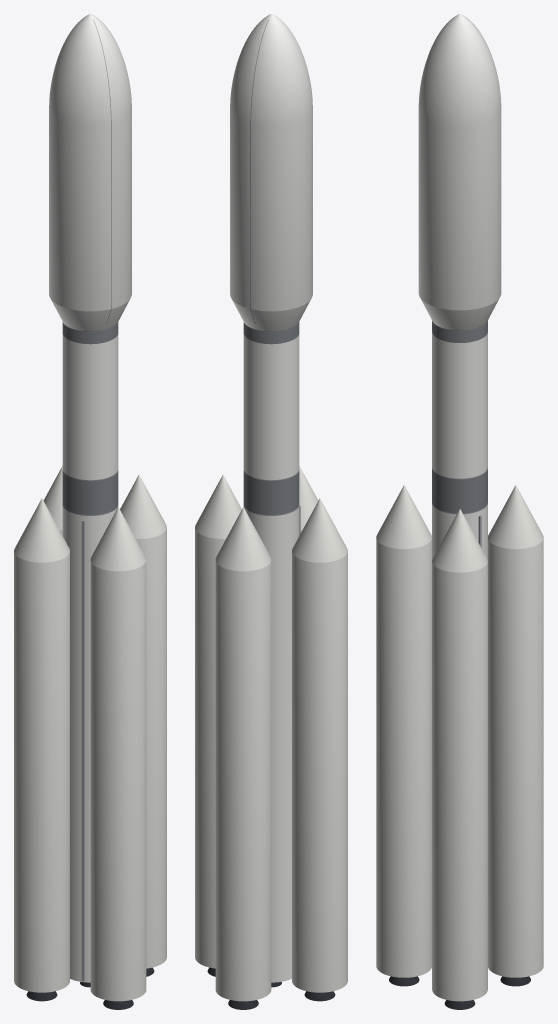
Rendered from angaraa5.glb.
3 views of the same model, side by side, from view 1: azimuth 30°, elevation 25°; view 2: azimuth 150°, elevation 25°; view 3: azimuth 270°, elevation 25° (orthographic).
Visible parts, largest first — view 1: angaraa5; view 2: angaraa5; view 3: angaraa5.
Part boxes in pixels (box(x1,y1,x2,y2)): angaraa5: box(14, 14, 166, 1009); angaraa5: box(195, 14, 347, 1009); angaraa5: box(376, 14, 543, 1009).
Size of the model in its own units: 8.7 by 55.4 by 8.7.
1 material, 1 textured.
